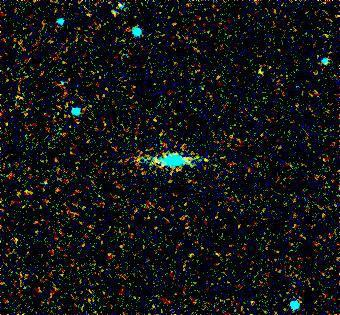star: (192, 146, 222, 176)
